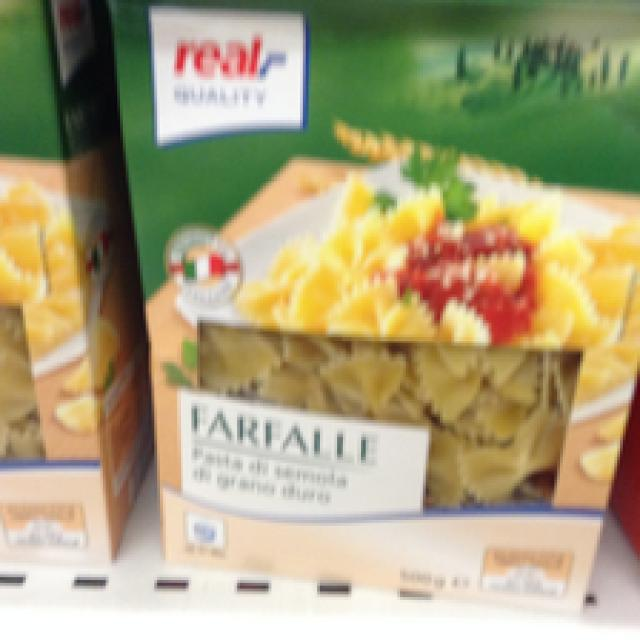groceries: (112, 0, 637, 606)
